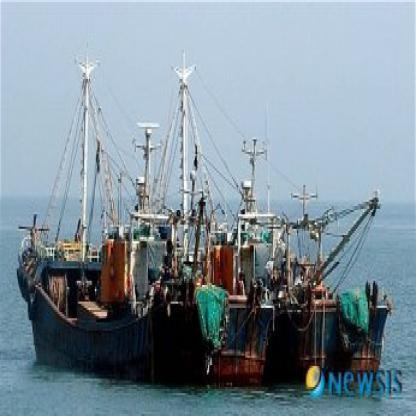Ship: (17, 37, 410, 399)
